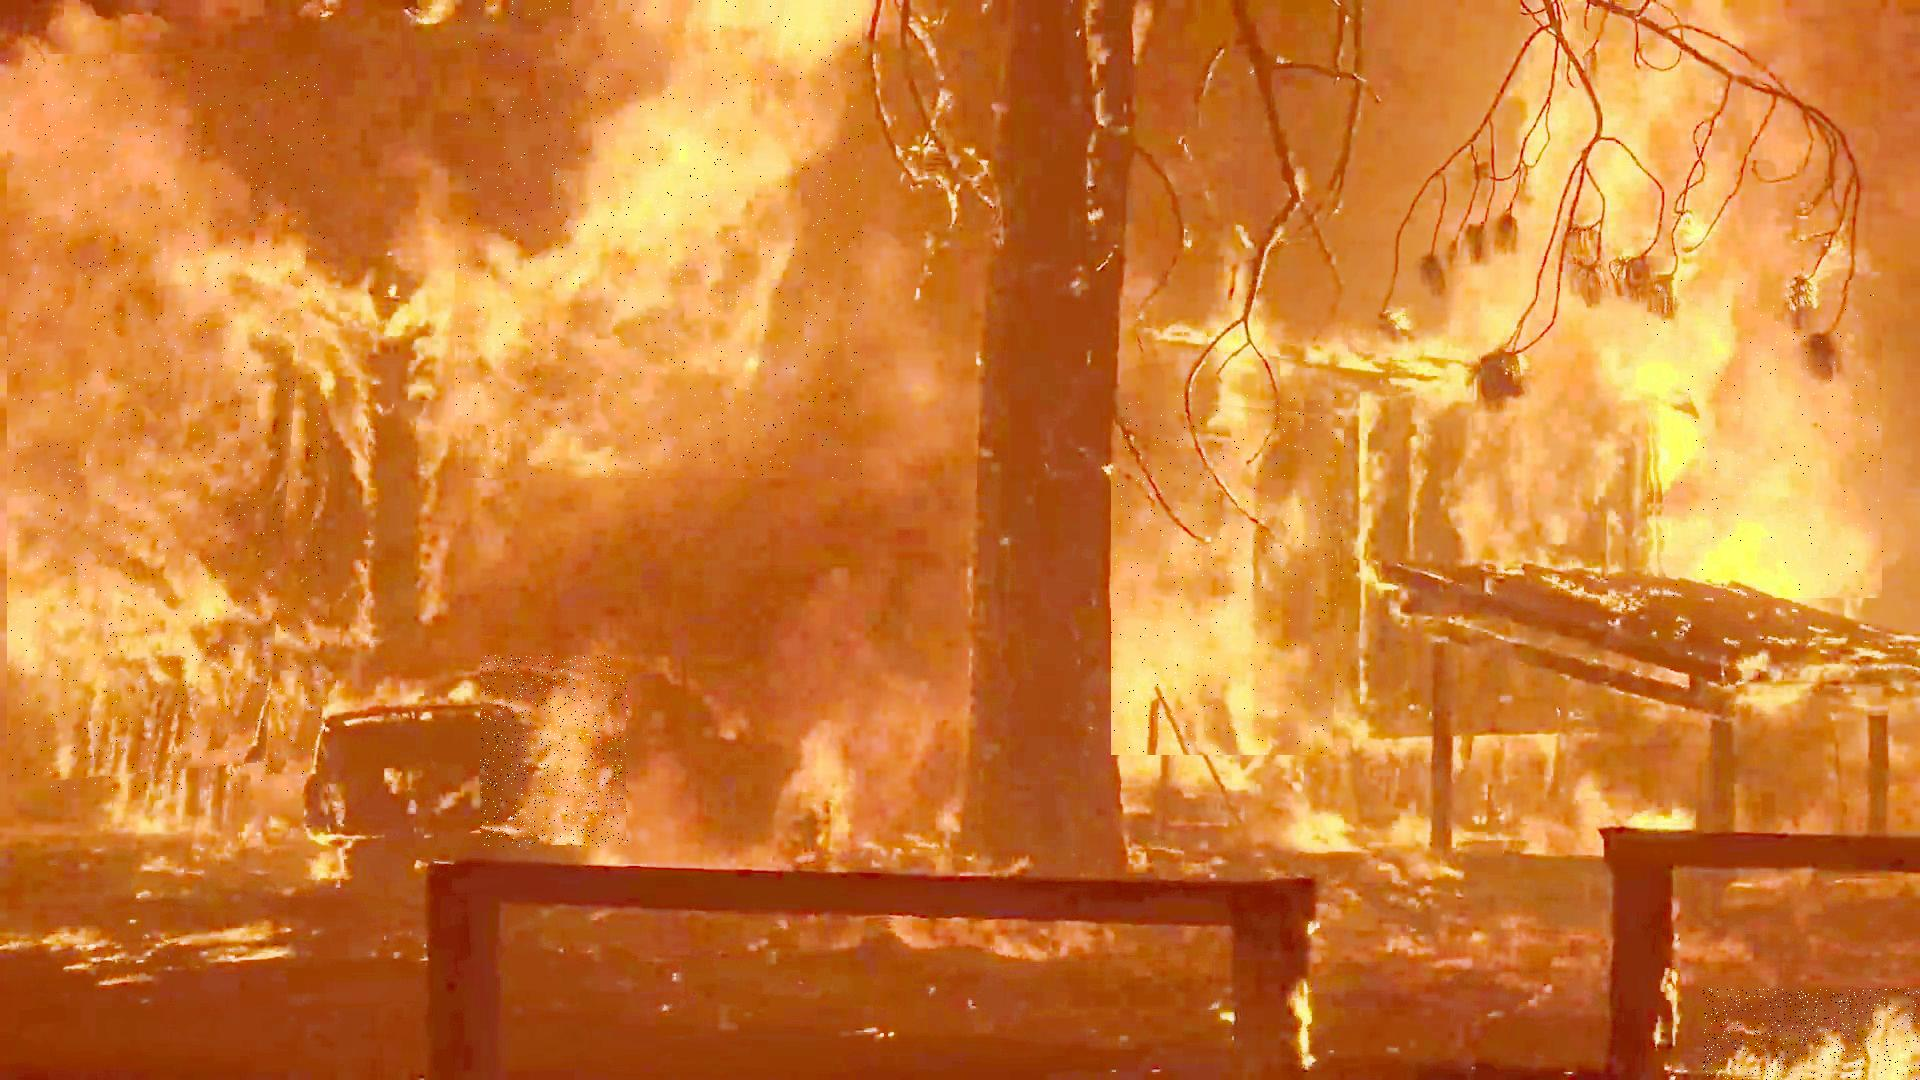fire: (8, 55, 326, 793), (456, 0, 865, 477), (1112, 396, 1345, 756), (1648, 281, 1884, 599), (481, 655, 629, 848), (1702, 988, 1920, 1080)
